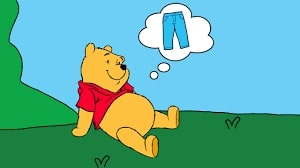Winnie: (68, 39, 139, 118)
